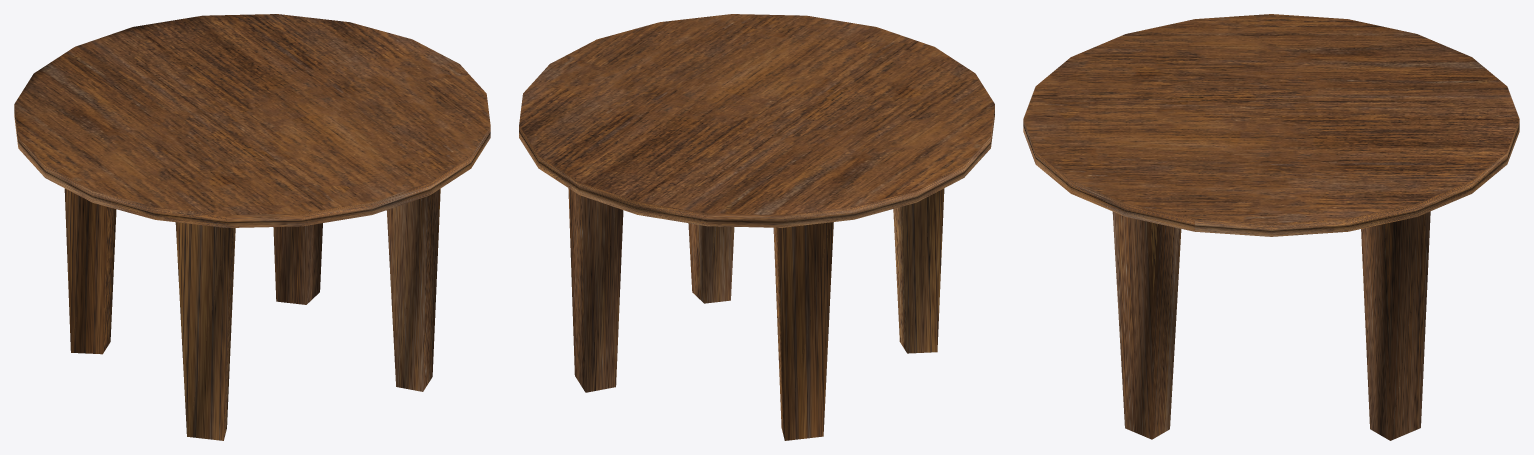
Rendered from Obj_vid_05_taula_principal_low_poly.fbx.
3 views of the same model, side by side, from view 1: azimuth 30°, elevation 25°; view 2: azimuth 150°, elevation 25°; view 3: azimuth 270°, elevation 25° (orthographic). The views are drawn at different scales.
Visible parts, largest first — view 1: Obj_vid_05_taula_principal_low_poly; view 2: Obj_vid_05_taula_principal_low_poly; view 3: Obj_vid_05_taula_principal_low_poly.
Boxes of the visible parts, bbox=[...] form: Obj_vid_05_taula_principal_low_poly: bbox=[14, 14, 490, 440]; Obj_vid_05_taula_principal_low_poly: bbox=[519, 14, 994, 440]; Obj_vid_05_taula_principal_low_poly: bbox=[1023, 14, 1519, 440].
Bounding box in the file's own units: 1.24 × 0.716 × 1.24.
